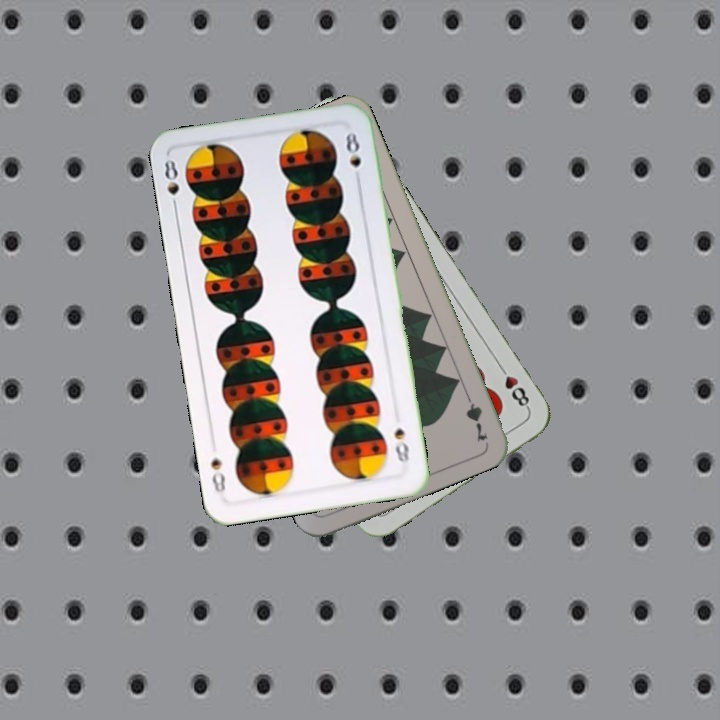G7: (460, 386, 491, 445)
H8: (494, 360, 532, 412)
S8: (158, 155, 182, 213), (390, 424, 412, 465)
